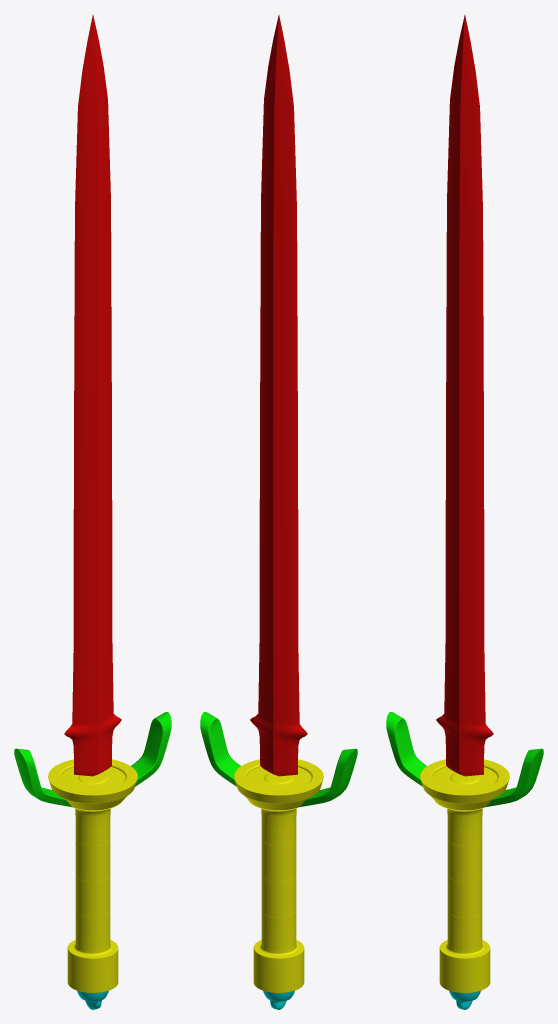
Rendered from Holo_Sword_FBX.fbx.
3 renders of one model, left to right at view 1: azimuth 30°, elevation 25°; view 2: azimuth 150°, elevation 25°; view 3: azimuth 330°, elevation 25°, orthographic.
Parts seen in each view (by area): view 1: Blade, Grip, Hand_Guard; view 2: Blade, Grip, Hand_Guard; view 3: Blade, Grip, Hand_Guard.
Part boxes in pixels (x1,y1,x2,y2): Blade: (64,15,121,776); Grip: (48,759,137,992); Hand_Guard: (14,712,171,806); Blade: (250,15,307,776); Grip: (234,759,323,992); Hand_Guard: (200,712,357,806); Blade: (436,15,493,776); Grip: (420,759,509,992); Hand_Guard: (386,712,543,806).
Bounding box in the file's own units: 11.59 × 72.89 × 5.97.
